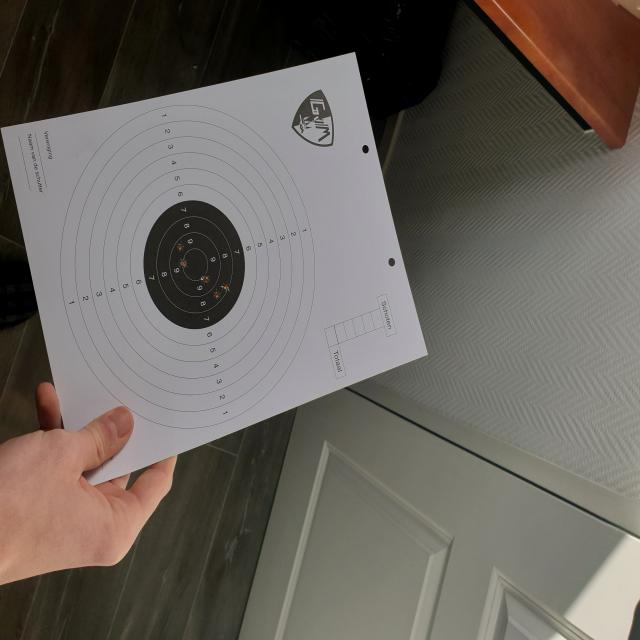10: (178, 257, 188, 269), (200, 274, 210, 286)
8: (219, 281, 232, 294), (213, 289, 222, 301)
9: (176, 240, 184, 253)
Target: (60, 105, 316, 430)
black_contour: (143, 200, 245, 329)
